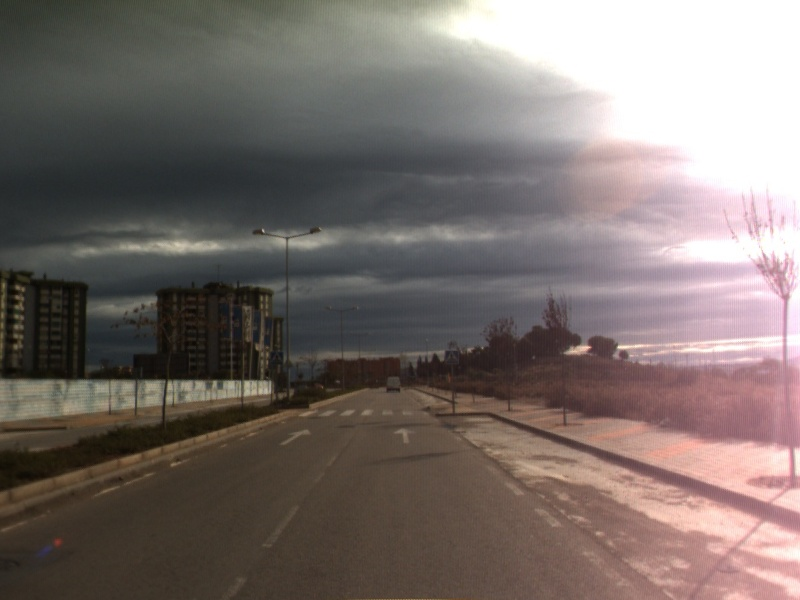STRAIGHT: (277, 427, 313, 447), (391, 425, 419, 445)
